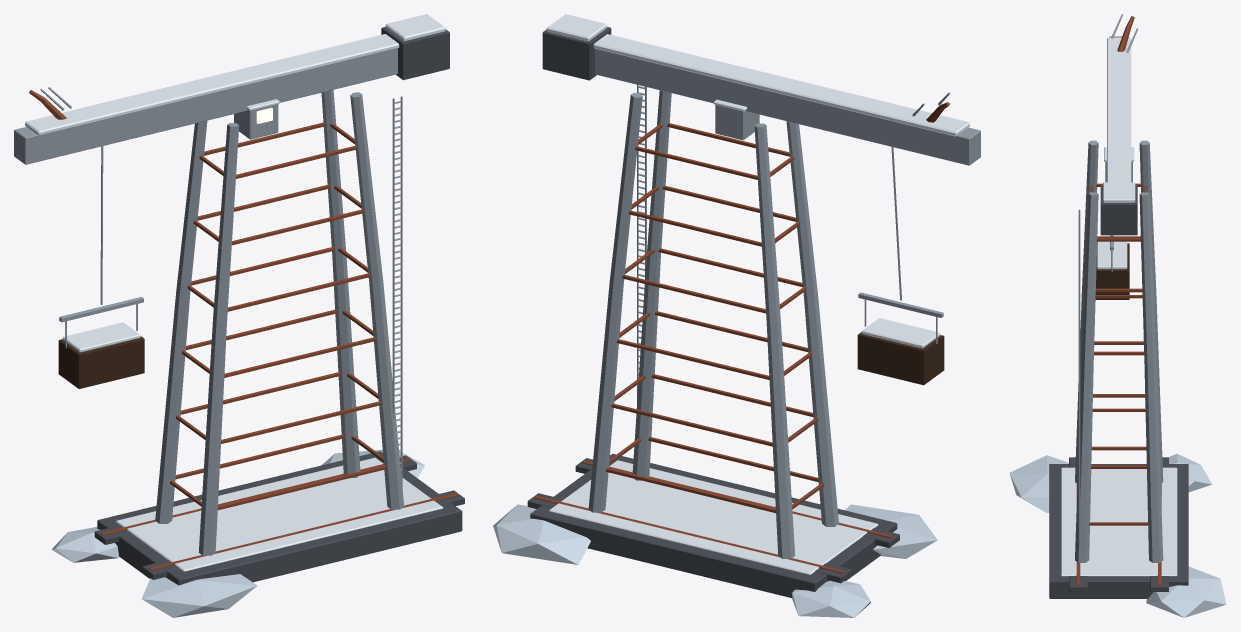
The model's file is Heritage_Crane.fbx.
The picture shows the model from 3 angles, left to right: view 1: azimuth 30°, elevation 25°; view 2: azimuth 150°, elevation 25°; view 3: azimuth 270°, elevation 25°; orthographic projection. The views are drawn at different scales.
Visible parts, largest first — view 1: Heritage_Crane; view 2: Heritage_Crane; view 3: Heritage_Crane.
Boxes of the visible parts, <box> form: Heritage_Crane: <box>14,14,464,617</box>; Heritage_Crane: <box>493,14,980,617</box>; Heritage_Crane: <box>1009,14,1226,617</box>.
Bounding box in the file's own units: 3732 × 4166 × 1869.
